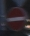No entry: (6, 5, 25, 31)
